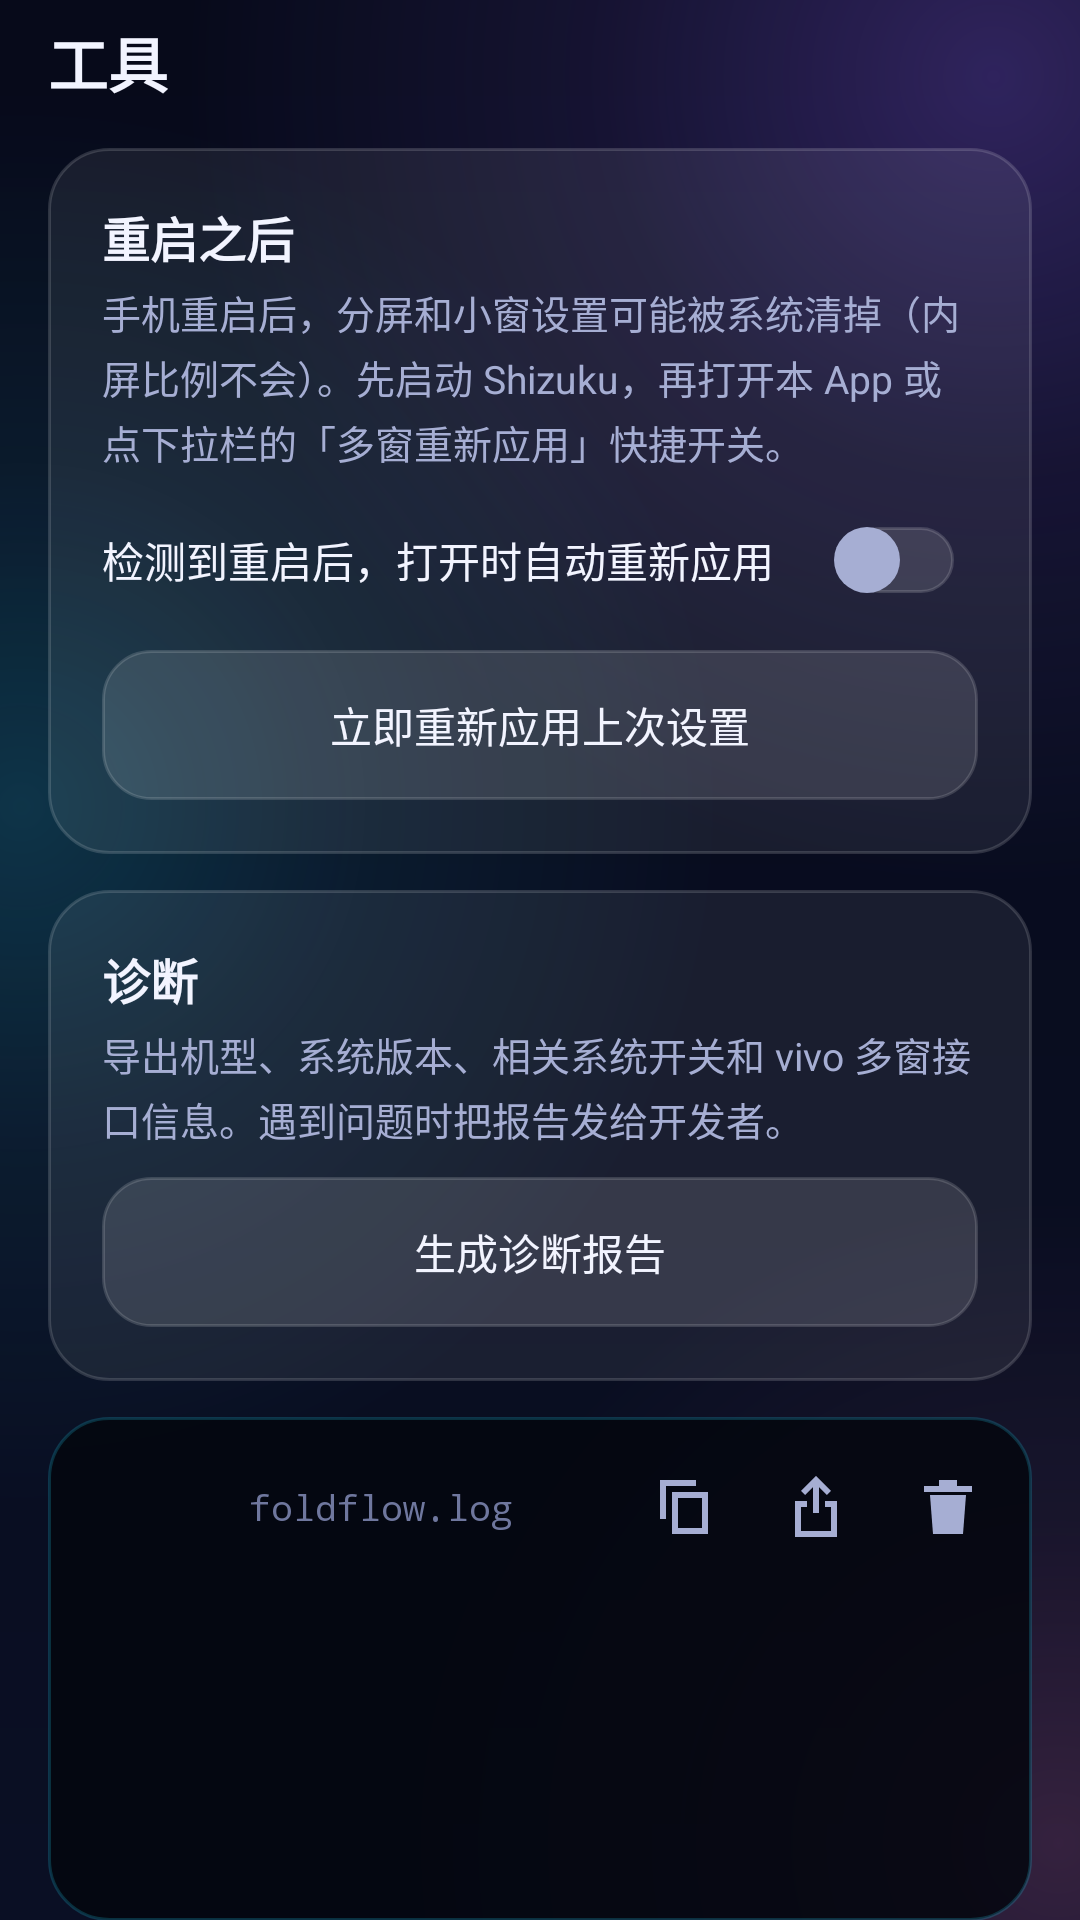

Locate icon controls on the screen. Image size 1080 × 1920, boxes as (x1, y1, x2, y2).
分享记录: (795, 1476, 837, 1537)
复制记录: (660, 1480, 708, 1534)
清空记录: (924, 1480, 972, 1534)
